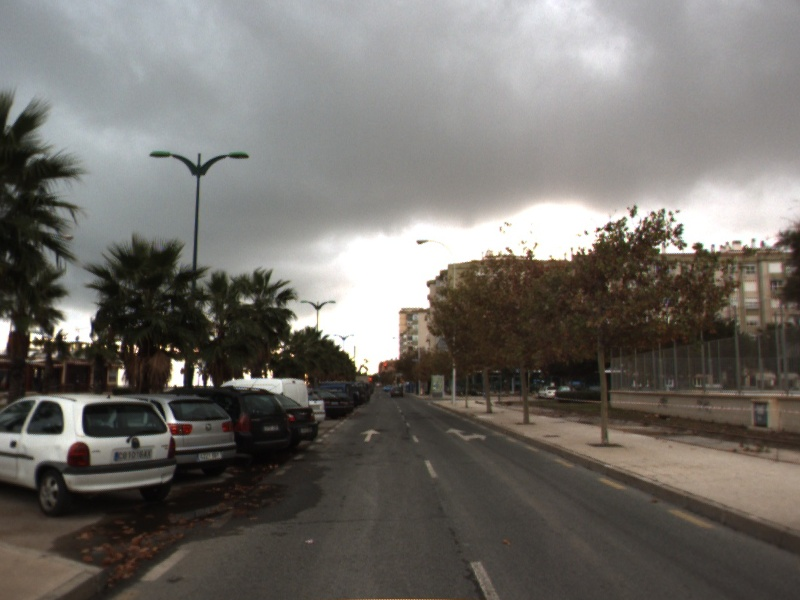STRAIGHT: (359, 427, 383, 443)
STRAIGHT_RIGHT: (444, 426, 488, 443)
